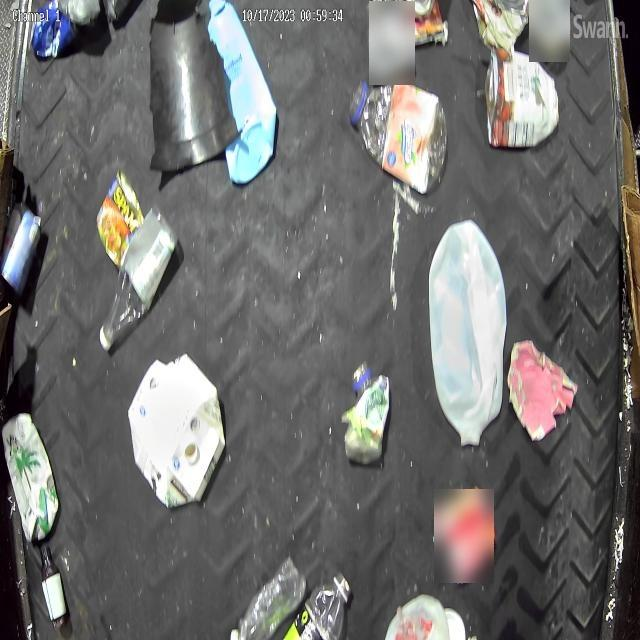milk_jug: (428, 218, 509, 450)
non_white_jug: (130, 353, 226, 509), (202, 0, 276, 176), (2, 412, 59, 542)
plastic_bottle: (348, 79, 448, 197), (99, 205, 178, 352), (236, 556, 306, 640), (283, 569, 351, 640)
